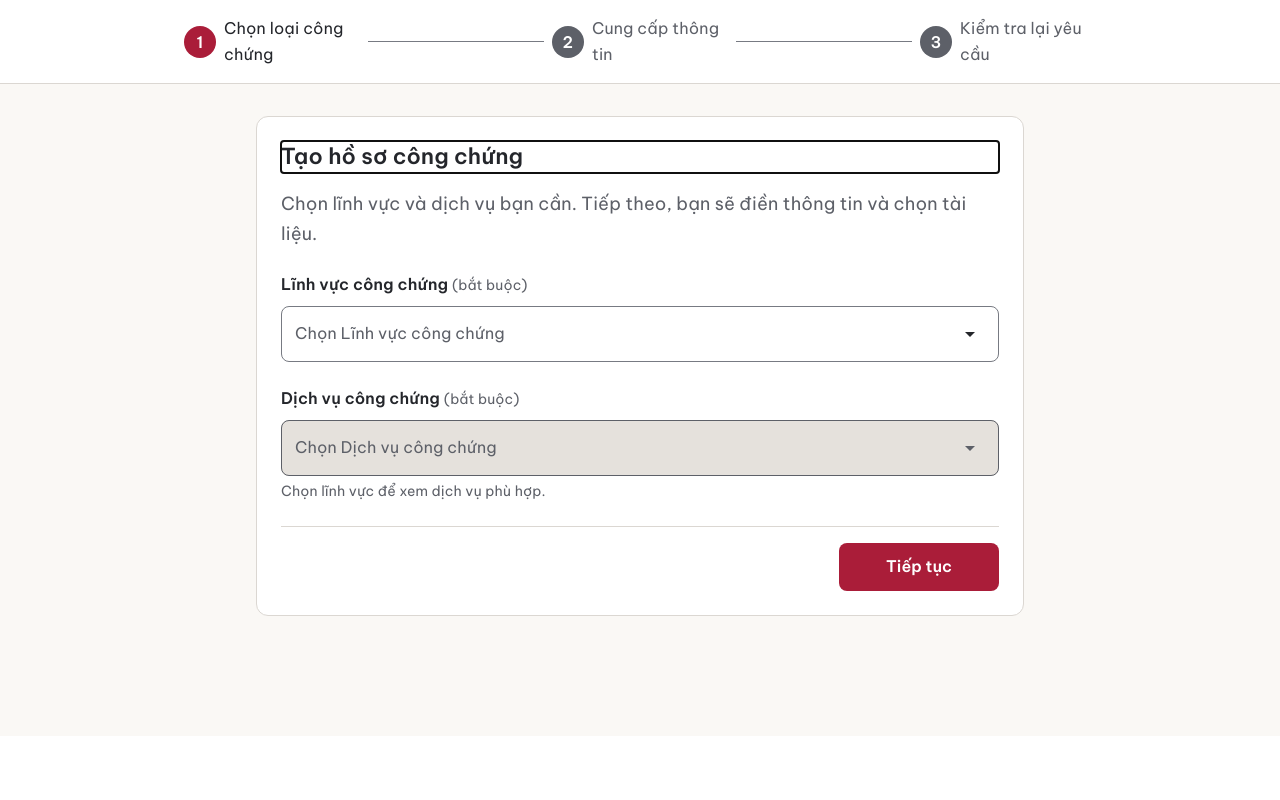
Test: choosing a field without a service shows the existing validation instead of throwing
Press the mouse on the dropdown labelled "Lĩnh vực công chứng" at [625, 334], box [290,315,960,353]
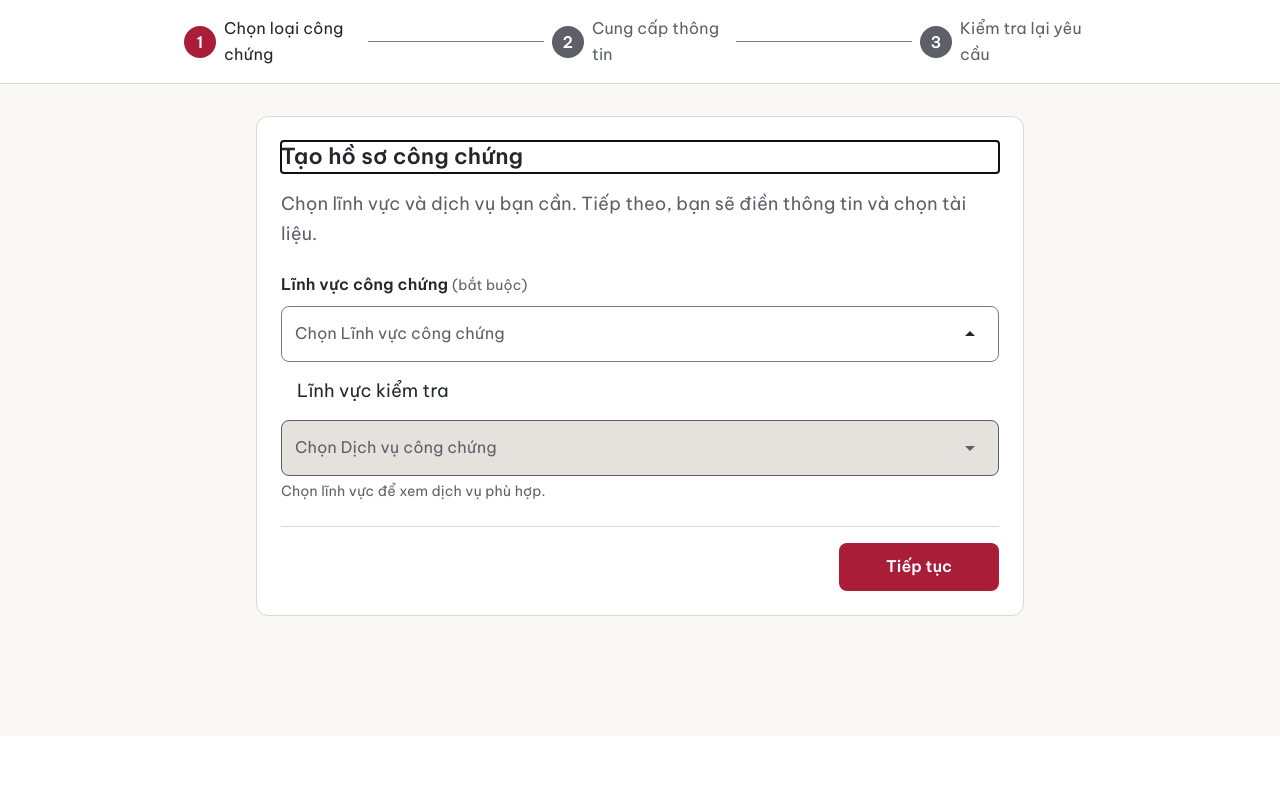
Click the option "Lĩnh vực kiểm tra" at [373, 390], box [297,379,449,402]
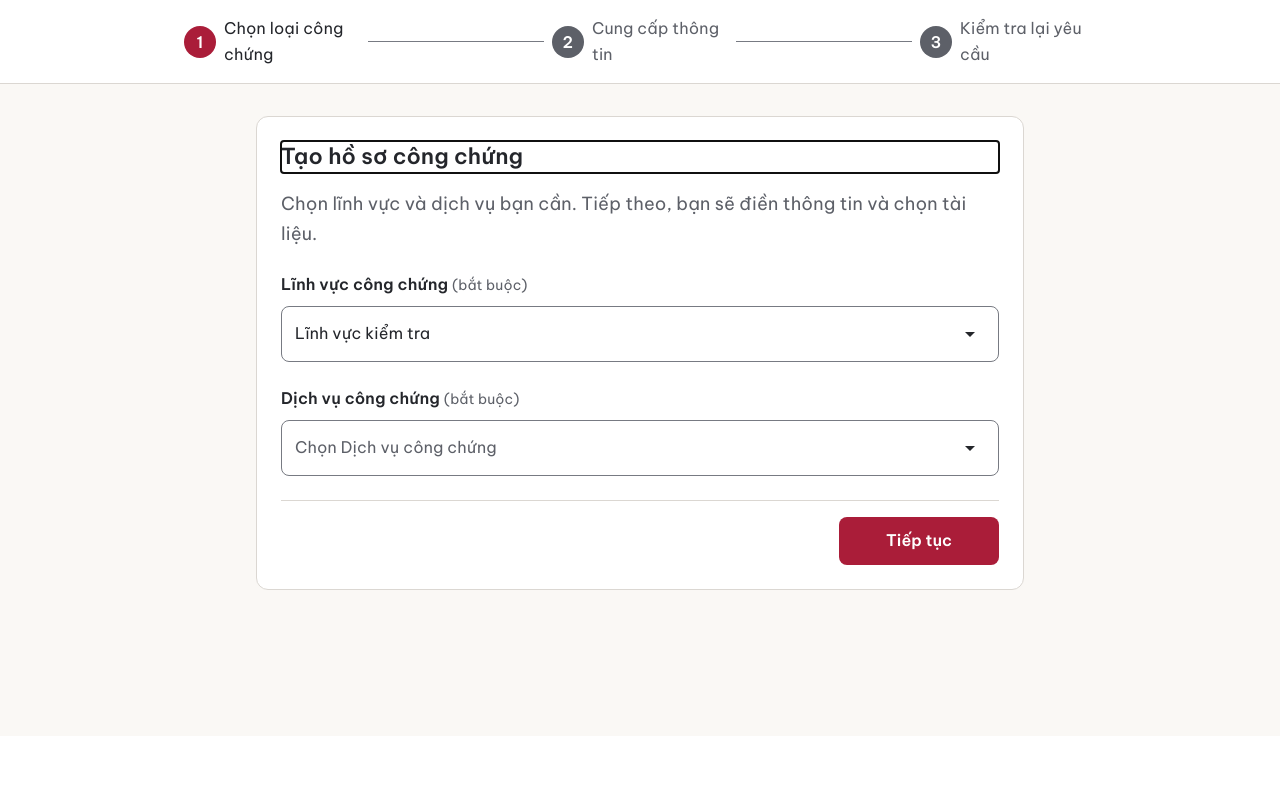
Click the button "Tiếp tục" at [919, 541], box [839,517,999,565]
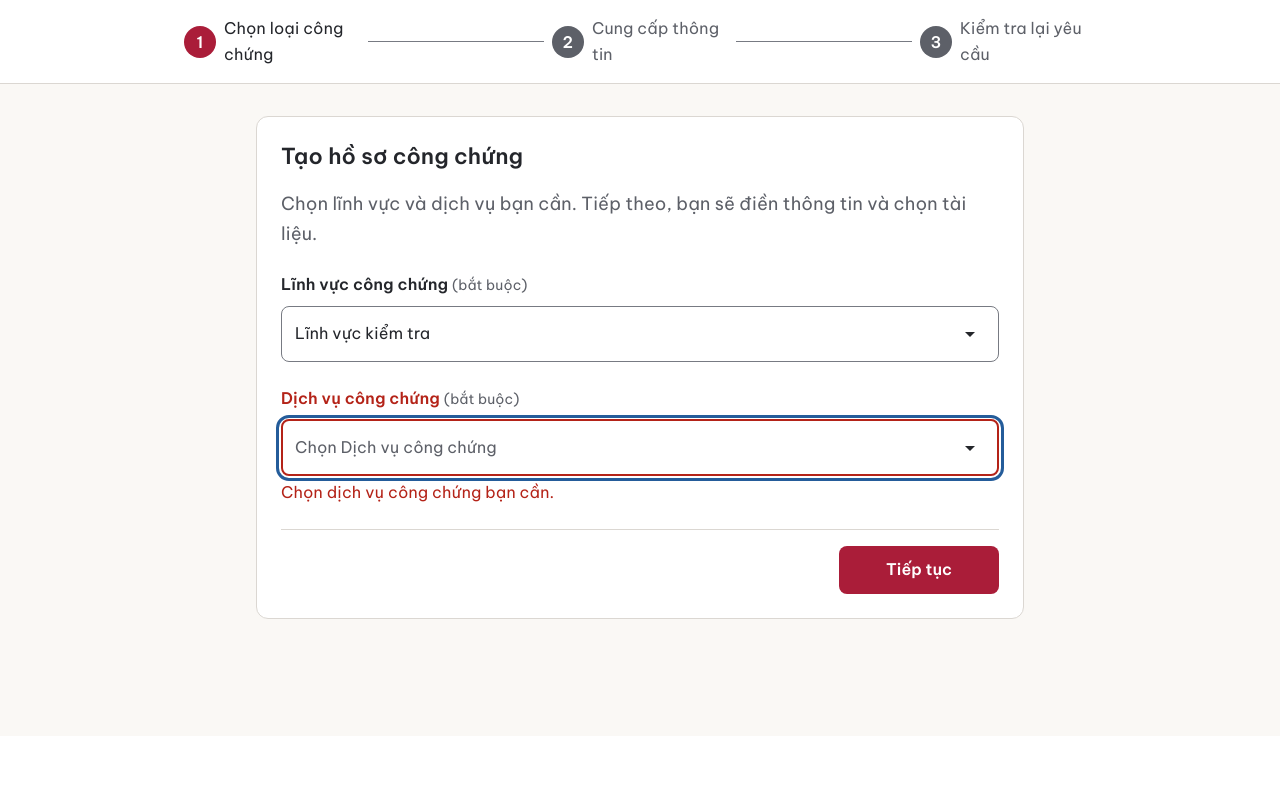
Check: the text "Chọn dịch vụ công chứng bạn cần." is shown, box [281,482,554,502]
